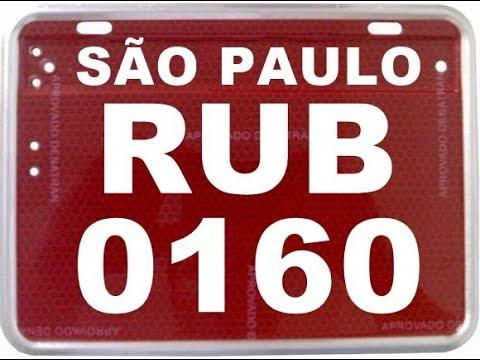Placa_mercosul_carro: (14, 20, 466, 340)
